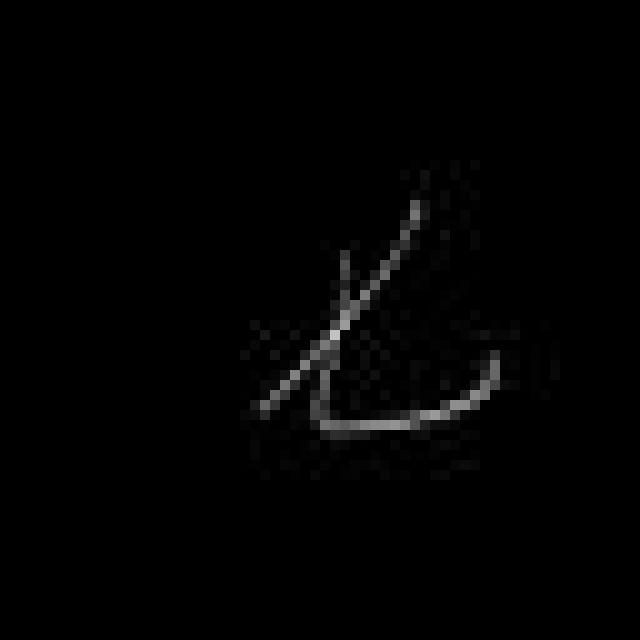7 -seven-: (251, 198, 511, 440)
